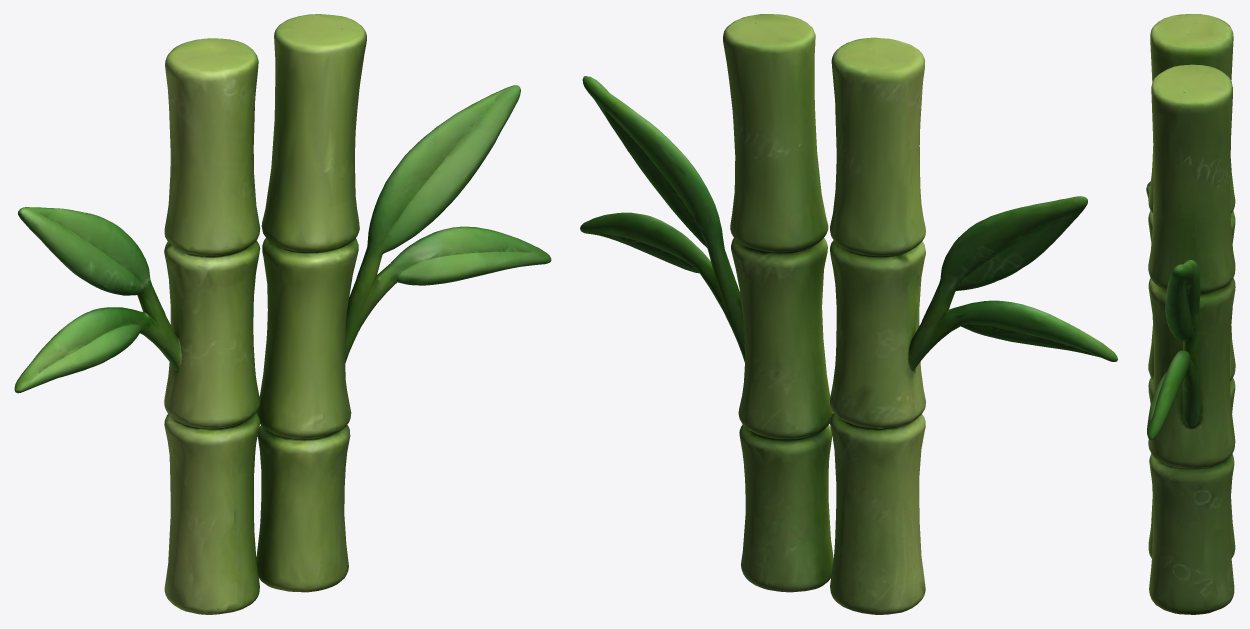
Rendered from bamboo_pbr.glb.
3 renders of one model, left to right at view 1: azimuth 30°, elevation 25°; view 2: azimuth 150°, elevation 25°; view 3: azimuth 270°, elevation 25°, orthographic. The views are drawn at different scales.
Parts seen in each view (by area): view 1: model.004; view 2: model.004; view 3: model.004.
Boxes of the visible parts, bbox=[...] form: model.004: bbox=[14, 14, 551, 614]; model.004: bbox=[580, 14, 1117, 614]; model.004: bbox=[1146, 14, 1235, 614].
Bounding box in the file's own units: 1.5 × 1.46 × 0.2238.
1 material, 1 textured.
